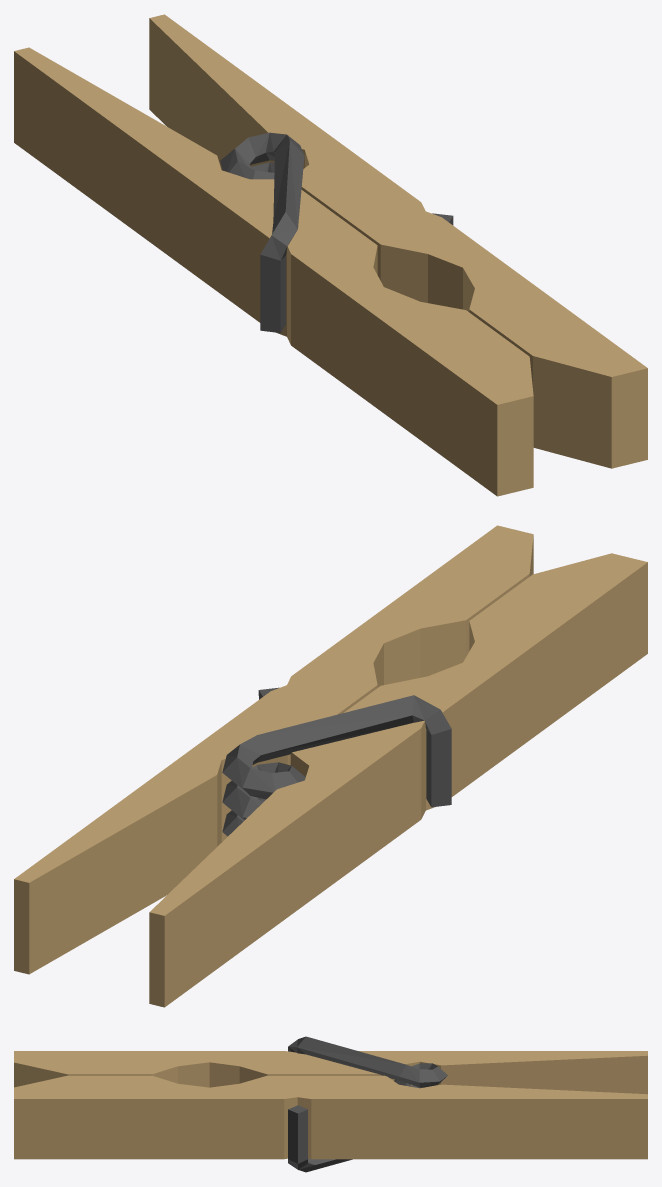
3 views of the same model, one above another, from view 1: azimuth 30°, elevation 25°; view 2: azimuth 150°, elevation 25°; view 3: azimuth 270°, elevation 25° (orthographic). The views are drawn at different scales.
Visible parts, largest first — view 1: Node; view 2: Node; view 3: Node.
Boxes of the visible parts, x1=… form: Node: x1=14, y1=14, x2=647, y2=496; Node: x1=14, y1=525, x2=647, y2=1007; Node: x1=14, y1=1036, x2=647, y2=1172.
Size of the model in its own units: 1.93 by 1.4 by 8.38.
